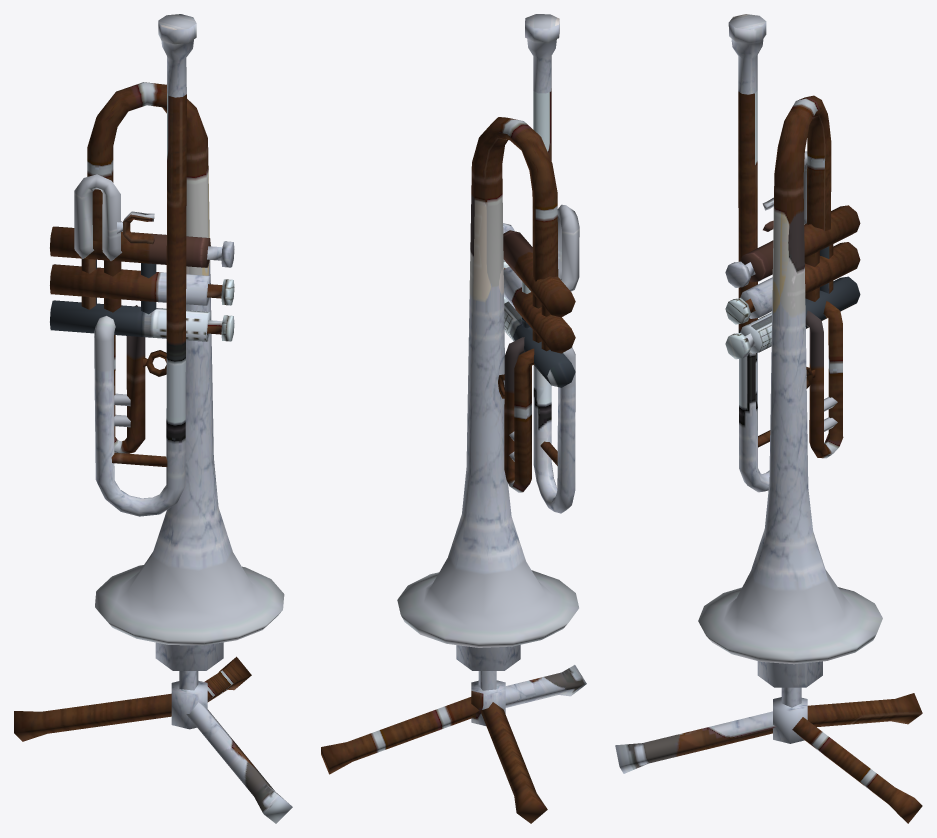
The model's file is tromba.fbx.
The picture shows the model from 3 angles, left to right: view 1: azimuth 30°, elevation 25°; view 2: azimuth 150°, elevation 25°; view 3: azimuth 270°, elevation 25°; orthographic projection. The views are drawn at different scales.
Visible parts, largest first — view 1: Tromba; view 2: Tromba; view 3: Tromba.
Part boxes in pixels (x1=…): Tromba: x1=14, y1=14, x2=292, y2=823; Tromba: x1=321, y1=14, x2=586, y2=823; Tromba: x1=615, y1=14, x2=922, y2=823.
Bounding box in the file's own units: 105 × 323 × 122.
